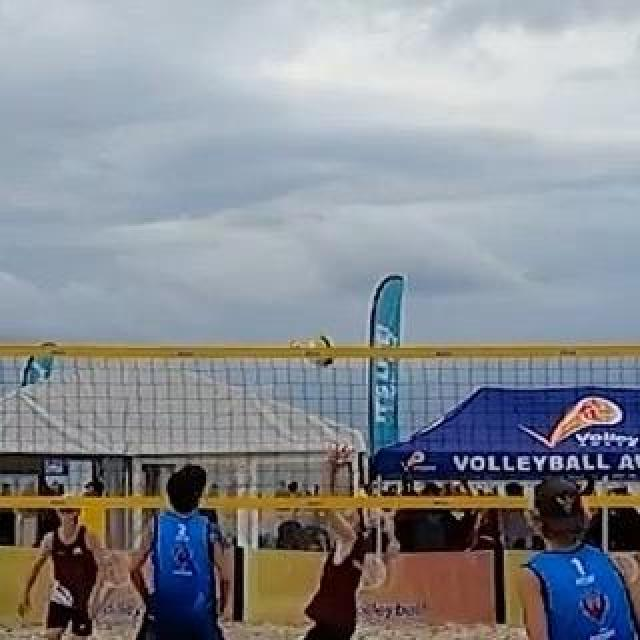volleyball: (309, 335, 337, 367)
